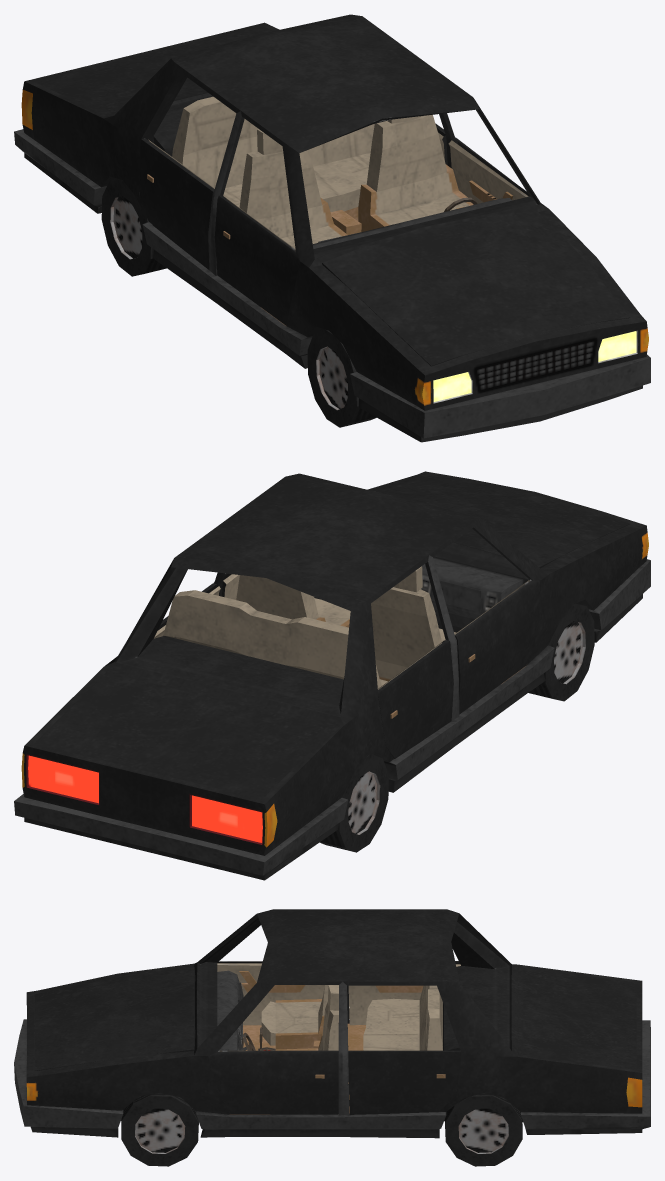
The model's file is retro_car_with_interior_psx_asset_free.glb.
The picture shows the model from 3 angles, top to bottom: view 1: azimuth 30°, elevation 25°; view 2: azimuth 150°, elevation 25°; view 3: azimuth 270°, elevation 25°; orthographic projection. The views are drawn at different scales.
Visible parts, largest first — view 1: Car_Base, car_hood, R_Door_Front, R_Door_Back, trunk, R_Tire_Front, R_Tire_Back, L_Door_Front; view 2: Car_Base, trunk, car_hood, R_Door_Front, R_Door_Back, R_Tire_Back, R_Tire_Front, Car_Base.011; view 3: Car_Base, car_hood, trunk, L_Door_Front, L_Door_Back, L_Tire_front, L_Tire_Back, R_Door_Front, R_Door_Back.
Boxes of the visible parts, left/top/right/bottom form: Car_Base: left=14, top=14, right=650, bottom=442; car_hood: left=322, top=210, right=630, bottom=366; R_Door_Front: left=214, top=195, right=300, bottom=325; R_Door_Back: left=140, top=138, right=214, bottom=270; trunk: left=34, top=26, right=272, bottom=115; R_Tire_Front: left=307, top=329, right=376, bottom=427; R_Tire_Back: left=101, top=179, right=166, bottom=276; L_Door_Front: left=448, top=137, right=529, bottom=203; Car_Base: left=14, top=471, right=650, bottom=880; trunk: left=34, top=672, right=333, bottom=799; car_hood: left=377, top=475, right=629, bottom=568; R_Door_Front: left=454, top=579, right=540, bottom=714; R_Door_Back: left=377, top=640, right=453, bottom=758; R_Tire_Back: left=320, top=754, right=388, bottom=852; R_Tire_Front: left=528, top=603, right=594, bottom=701; Car_Base.011: left=431, top=580, right=482, bottom=612; Car_Base: left=14, top=909, right=650, bottom=1138; car_hood: left=34, top=967, right=195, bottom=1070; trunk: left=523, top=967, right=636, bottom=1069; L_Door_Front: left=208, top=1050, right=338, bottom=1114; L_Door_Back: left=348, top=1050, right=461, bottom=1114; L_Tire_front: left=121, top=1093, right=198, bottom=1166; L_Tire_Back: left=445, top=1093, right=522, bottom=1166; R_Door_Front: left=217, top=961, right=324, bottom=1025; R_Door_Back: left=348, top=961, right=460, bottom=1025.
Bounding box in the file's own units: 1.71 × 1.48 × 4.73.
2 materials, 2 textured.
